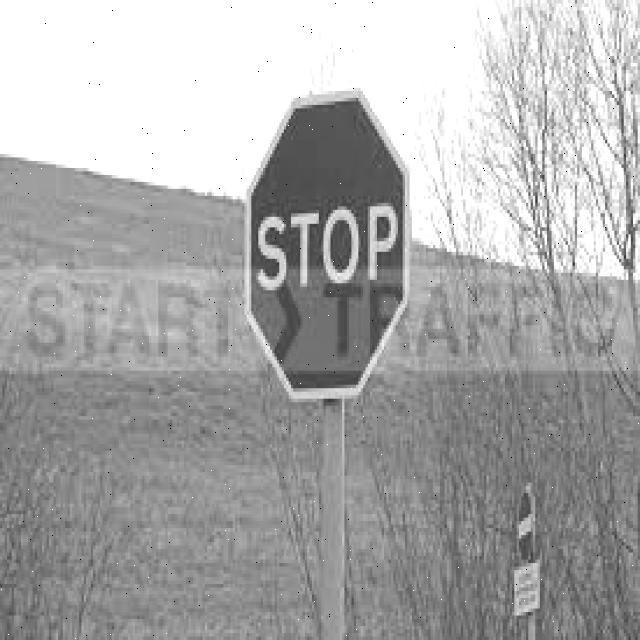stop sign: (244, 97, 406, 396)
